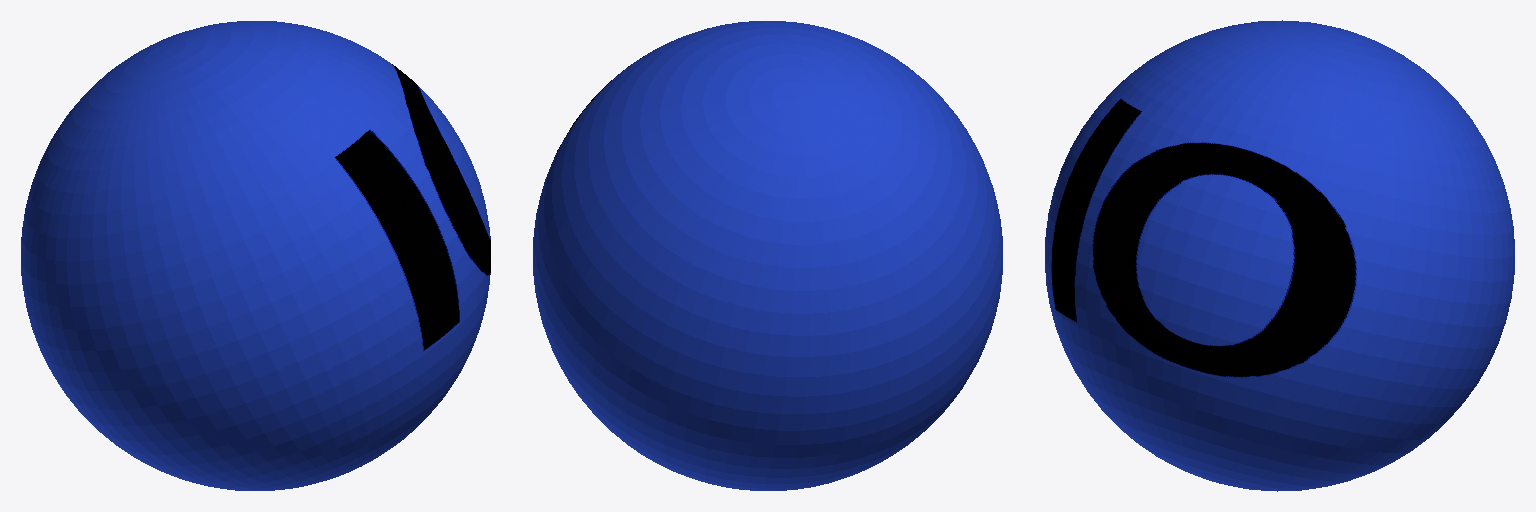
The picture shows the model from 3 angles: view 1: azimuth 30°, elevation 25°; view 2: azimuth 150°, elevation 25°; view 3: azimuth 270°, elevation 25°; orthographic projection.
Parts seen in each view (by area): view 1: Sphere; view 2: Sphere; view 3: Sphere.
Boxes of the visible parts, x1=… form: Sphere: x1=21, y1=21, x2=490, y2=490; Sphere: x1=533, y1=21, x2=1002, y2=490; Sphere: x1=1045, y1=20, x2=1514, y2=491.
Size of the model in its own units: 2 by 2 by 2.
Materials: 1 (1 with a texture image).